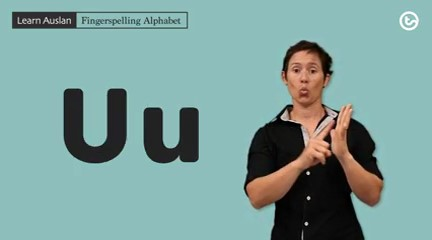U: (295, 99, 360, 169)
